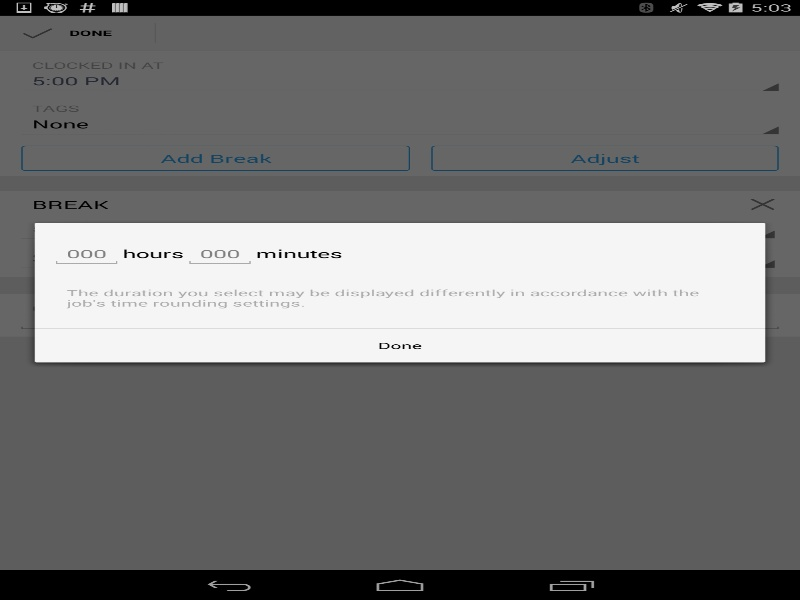Button: (34, 328, 765, 362)
Input: (50, 241, 122, 266), (184, 241, 256, 266)
